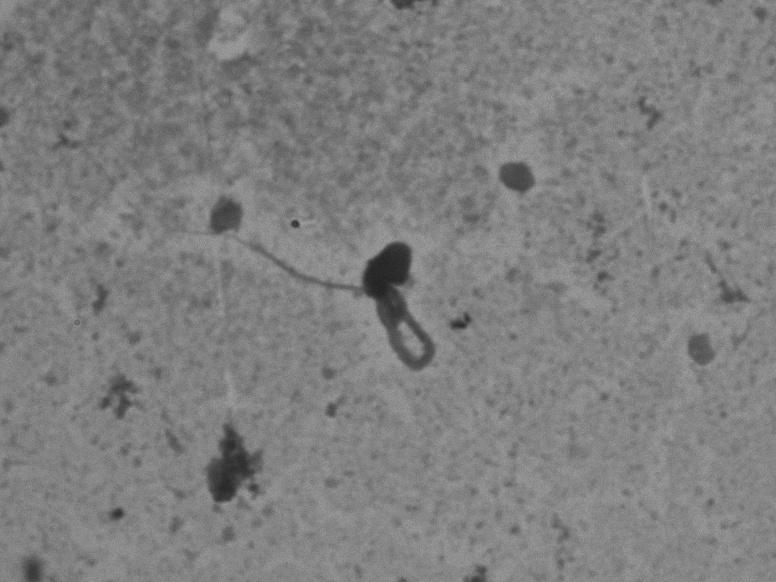Abnormal: (107, 198, 473, 375)
